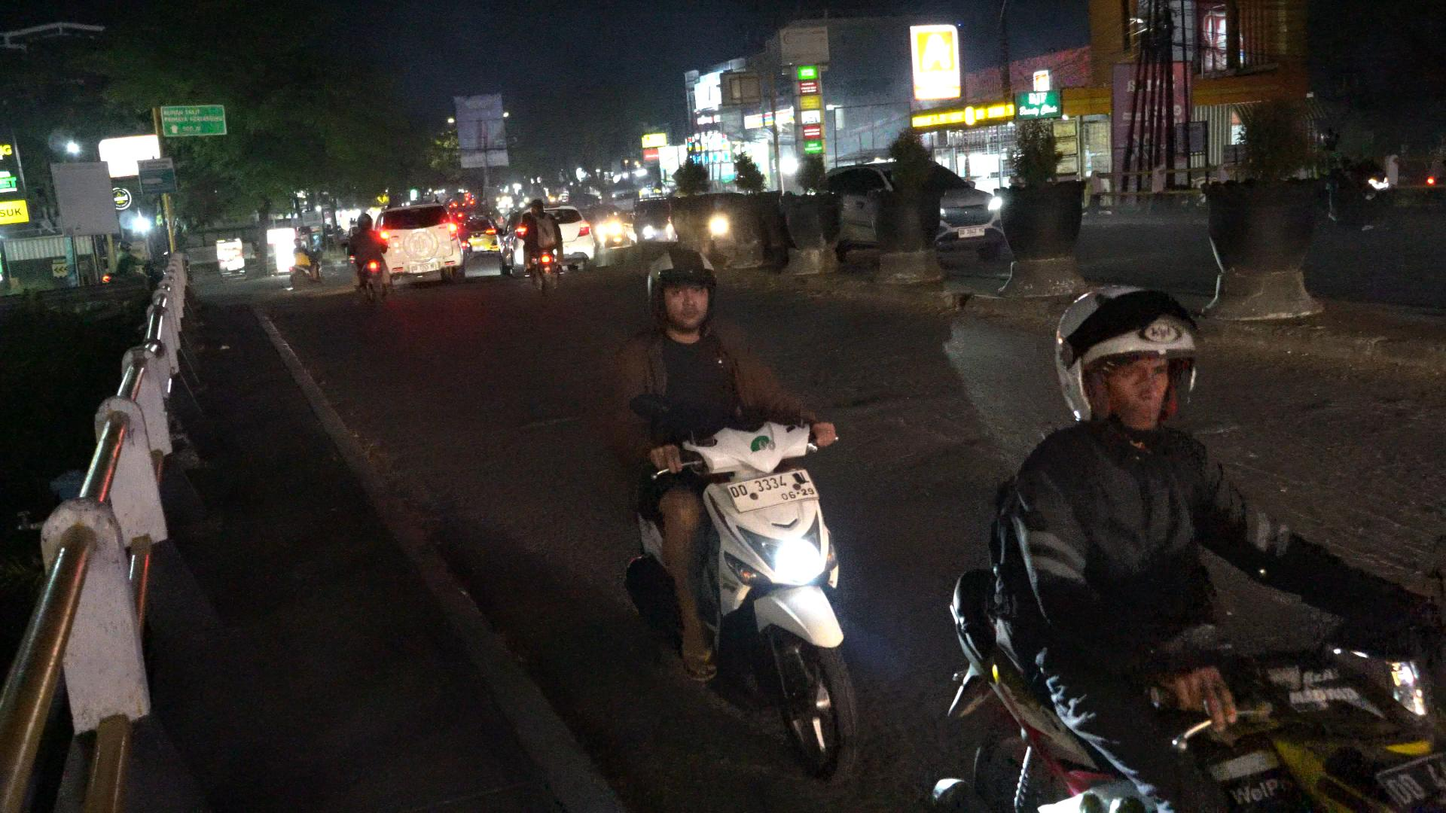number-plate: (728, 465, 822, 512)
